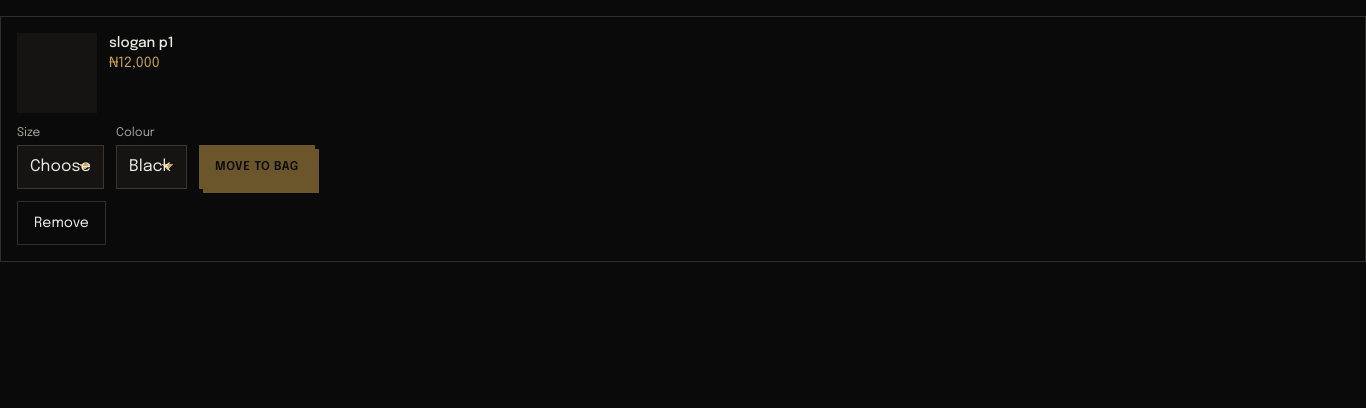
Test: Wishlist › removes an item
This screenshot has width=1366, height=408.
Step 1. Click the button with aria-label "Remove slogan p1 from wishlist" → (61, 223), box [17,201,106,245]
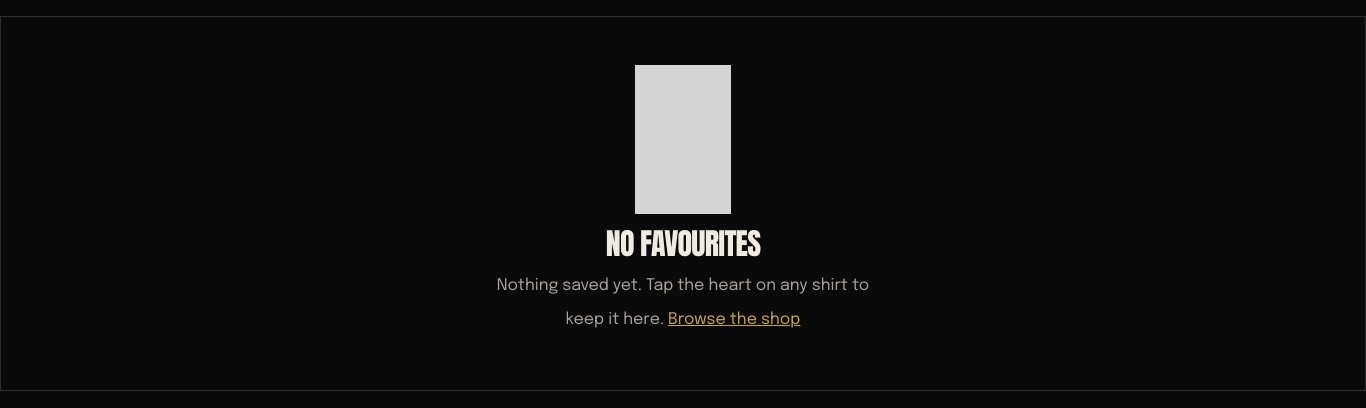
Expected: the text "Nothing saved yet" is shown, [497,277,869,328]
